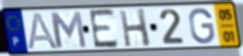2: (158, 8, 187, 46)
A: (27, 11, 60, 51)
E: (87, 8, 121, 51)
G: (188, 7, 217, 46)
H: (118, 8, 153, 49)
M: (48, 10, 89, 50)
